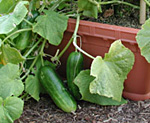cucumber: (41, 61, 75, 118), (64, 48, 87, 100)
